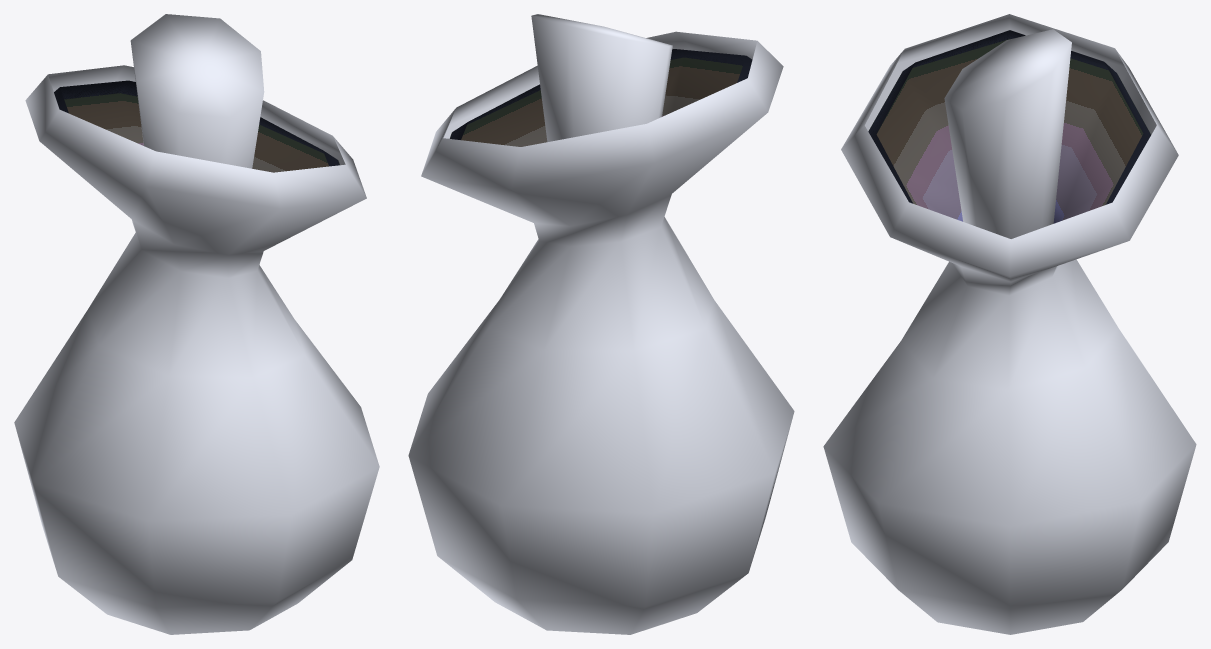
File: VIGOR.fbx
The picture shows the model from 3 angles, left to right: view 1: azimuth 30°, elevation 25°; view 2: azimuth 150°, elevation 25°; view 3: azimuth 270°, elevation 25°; orthographic projection. The views are drawn at different scales.
Visible parts, largest first — view 1: VIGOR; view 2: VIGOR; view 3: VIGOR.
Boxes of the visible parts, x1,y1,x2,y2 form: VIGOR: (14, 14, 379, 634); VIGOR: (408, 14, 794, 634); VIGOR: (823, 14, 1196, 634).
Bounding box in the file's own units: 3440 × 5833 × 3428.
